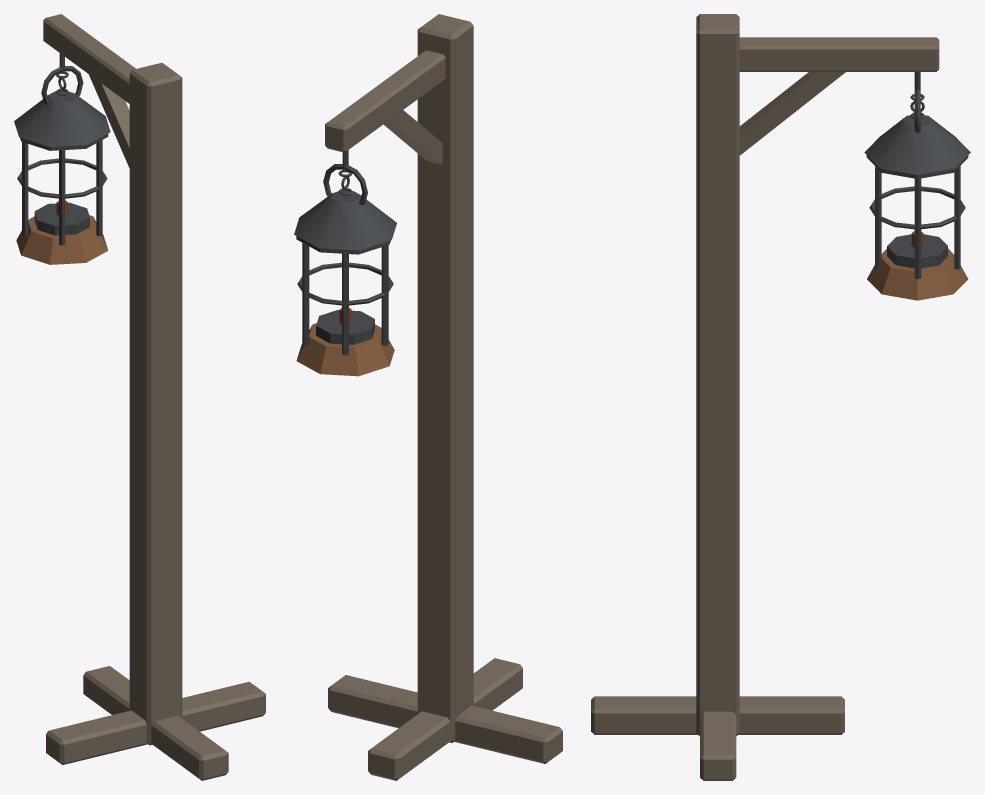
The model's file is ZR_LanternPost.fbx.
3 renders of one model, left to right at view 1: azimuth 30°, elevation 25°; view 2: azimuth 150°, elevation 25°; view 3: azimuth 270°, elevation 25°, orthographic. The views are drawn at different scales.
Visible parts, largest first — view 1: ZR_LanternPost; view 2: ZR_LanternPost; view 3: ZR_LanternPost.
Part boxes in pixels (<box>): ZR_LanternPost: <box>14,14,265,780</box>; ZR_LanternPost: <box>294,14,562,780</box>; ZR_LanternPost: <box>591,14,970,780</box>.
Bounding box in the file's own units: 0.7 × 2.15 × 1.05.
